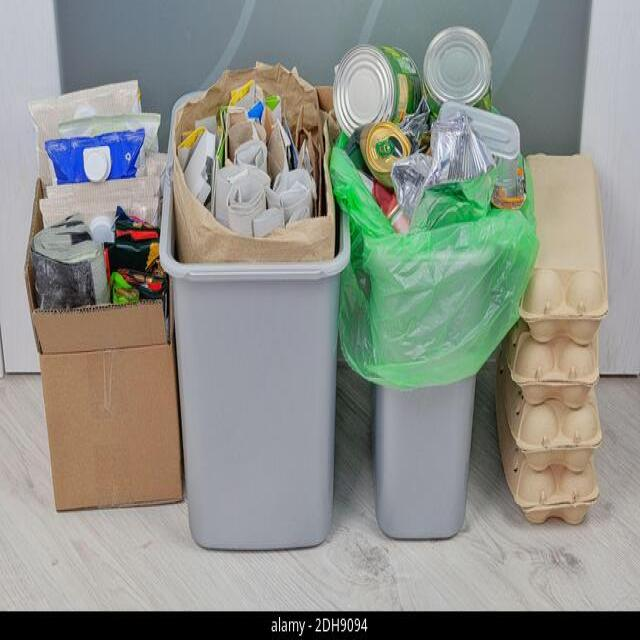cardboard: (505, 150, 611, 530), (173, 64, 338, 282), (32, 311, 186, 527)
metal: (344, 31, 499, 124)
trash: (30, 76, 176, 303), (366, 118, 513, 244)
